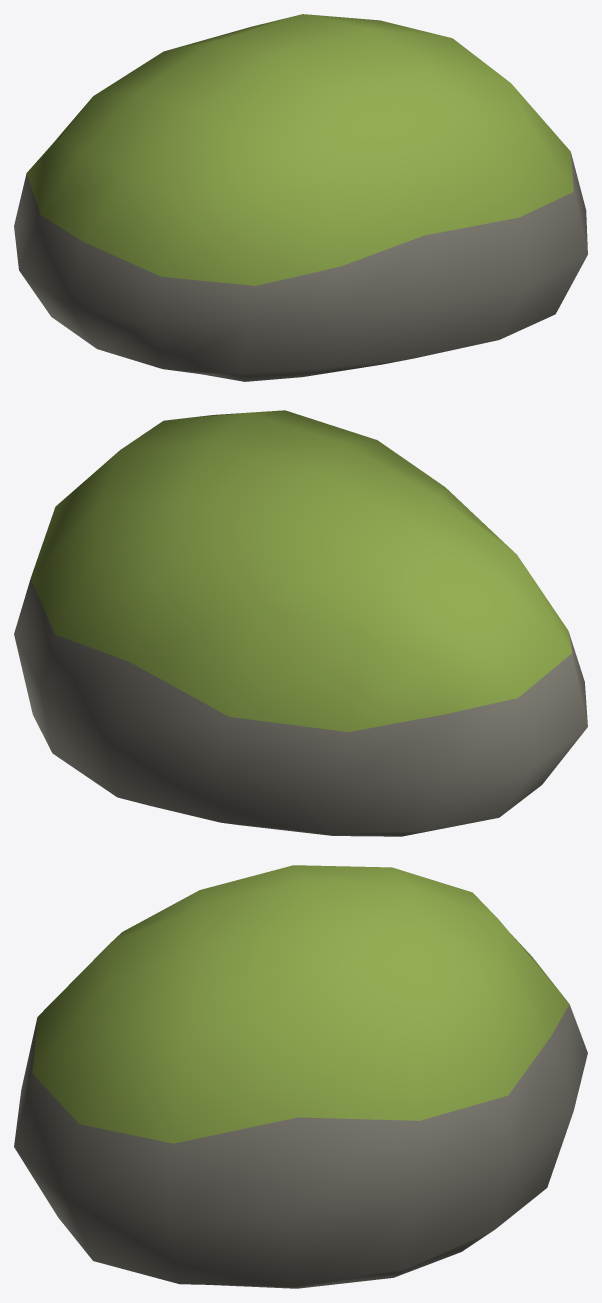
The model's file is itch_assetquest_pond_pebble_1a_moss.glb.
3 views of the same model, one above another, from view 1: azimuth 30°, elevation 25°; view 2: azimuth 150°, elevation 25°; view 3: azimuth 270°, elevation 25° (orthographic). The views are drawn at different scales.
Parts seen in each view (by area): view 1: Pebble_1a_Moss; view 2: Pebble_1a_Moss; view 3: Pebble_1a_Moss.
Part boxes in pixels (x1,y1,x2,y2): Pebble_1a_Moss: [14, 14, 587, 381]; Pebble_1a_Moss: [14, 410, 587, 836]; Pebble_1a_Moss: [14, 865, 587, 1288].
Size of the model in its own units: 0.42 by 0.234 by 0.3738.
